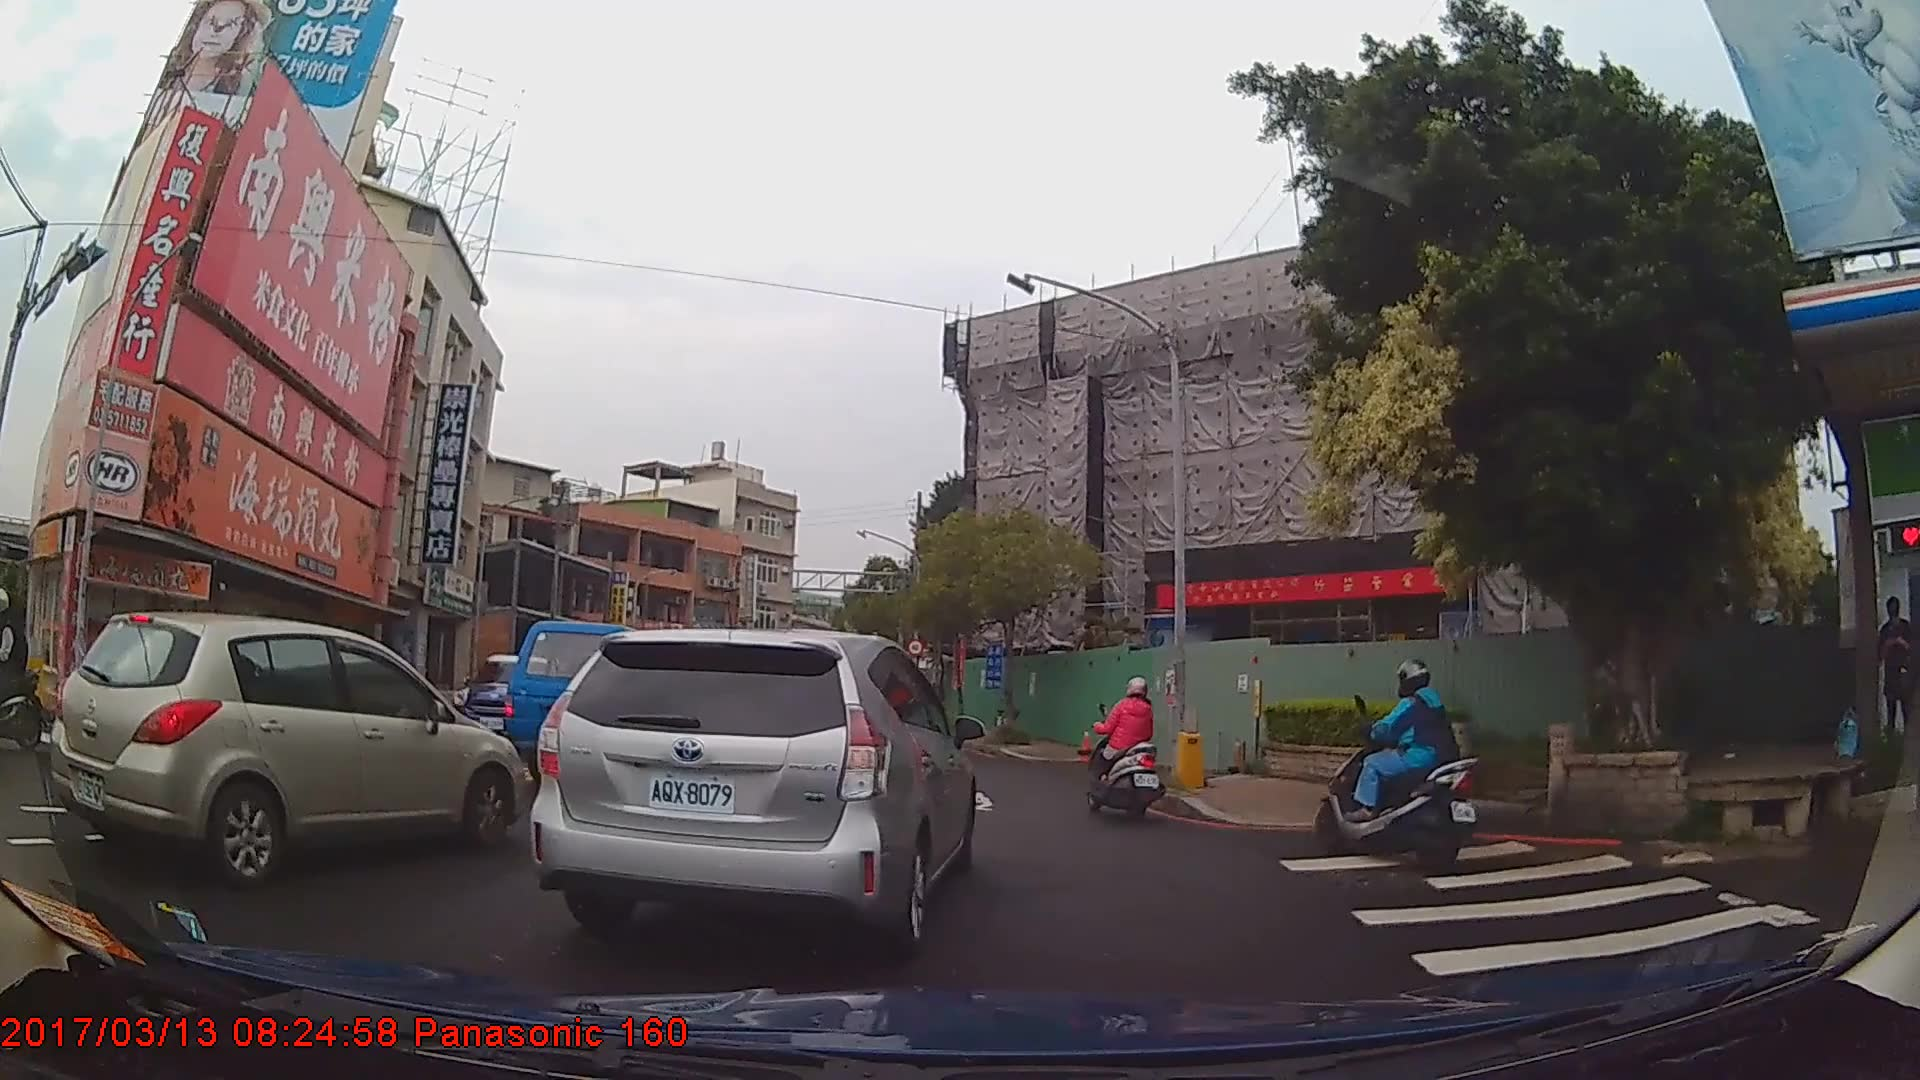pedestrian: (1876, 595, 1915, 734)
rider: (1318, 660, 1485, 862), (1081, 671, 1165, 818)
vehicle: (523, 624, 976, 951), (45, 610, 522, 888), (444, 649, 569, 756)
